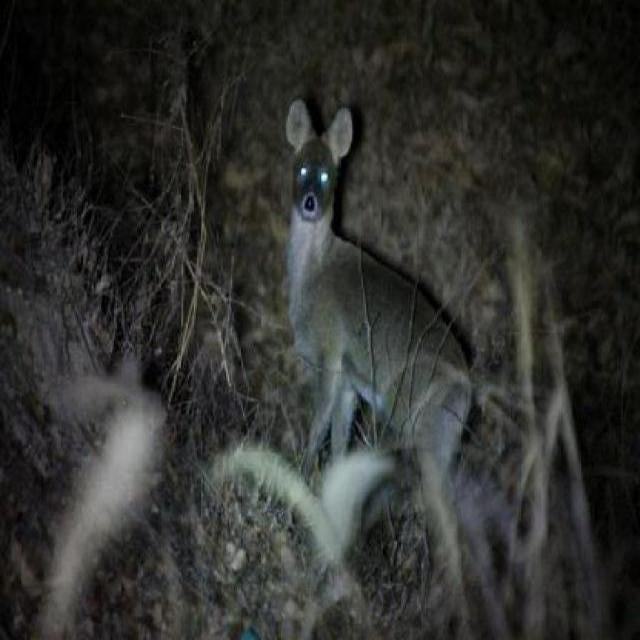deer: (260, 85, 488, 638)
